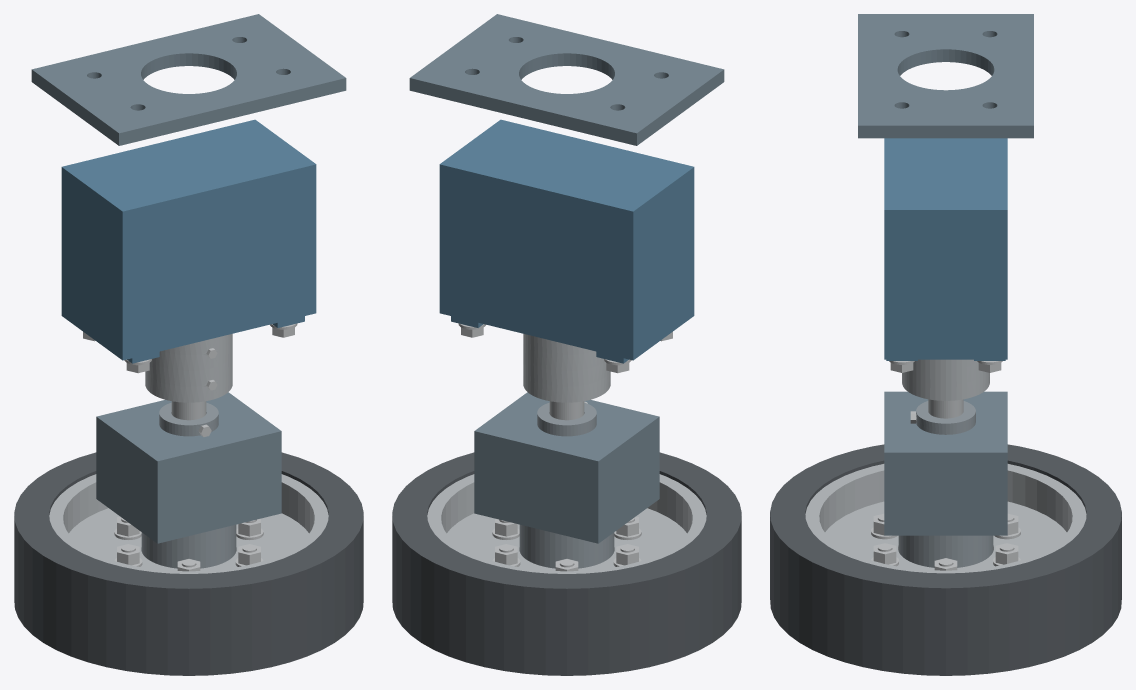
File: A01_roue_assemblee.glb
3 views of the same model, side by side, from view 1: azimuth 30°, elevation 25°; view 2: azimuth 150°, elevation 25°; view 3: azimuth 270°, elevation 25° (orthographic).
Parts seen in each view (by area): view 1: M01_motor_reducteur, R01_pneu, M02_platine_moteur, R09_support_paliers, R02_jante, M03_accouplement, R03_moyeu, R10_collier_interieur, R06_arbre; view 2: M01_motor_reducteur, R01_pneu, M02_platine_moteur, R09_support_paliers, R02_jante, M03_accouplement, R03_moyeu, R10_collier_interieur, R06_arbre; view 3: R01_pneu, M01_motor_reducteur, M02_platine_moteur, R09_support_paliers, R02_jante, M03_accouplement, R03_moyeu, R10_collier_interieur, R06_arbre.
Part boxes in pixels (<box>): M01_motor_reducteur: <box>61,119,316,363</box>; R01_pneu: <box>14,452,363,675</box>; M02_platine_moteur: <box>31,14,346,145</box>; R09_support_paliers: <box>96,392,281,543</box>; R02_jante: <box>49,474,328,573</box>; M03_accouplement: <box>145,334,232,402</box>; R03_moyeu: <box>141,524,236,568</box>; R10_collier_interieur: <box>159,402,218,436</box>; R06_arbre: <box>171,401,206,420</box>; M01_motor_reducteur: <box>439,119,694,363</box>; R01_pneu: <box>392,452,741,675</box>; M02_platine_moteur: <box>409,14,724,145</box>; R09_support_paliers: <box>474,392,659,543</box>; R02_jante: <box>427,474,706,573</box>; M03_accouplement: <box>523,334,610,402</box>; R03_moyeu: <box>519,524,614,568</box>; R10_collier_interieur: <box>537,402,596,436</box>; R06_arbre: <box>549,401,584,420</box>; R01_pneu: <box>770,444,1121,675</box>; M01_motor_reducteur: <box>884,138,1007,360</box>; M02_platine_moteur: <box>858,14,1033,138</box>; R09_support_paliers: <box>884,391,1007,535</box>; R02_jante: <box>805,464,1086,573</box>; M03_accouplement: <box>902,359,989,400</box>; R03_moyeu: <box>898,535,993,567</box>; R10_collier_interieur: <box>916,401,975,434</box>; R06_arbre: <box>928,399,963,418</box>.
Bounding box in the file's own units: 200 × 361 × 200.
